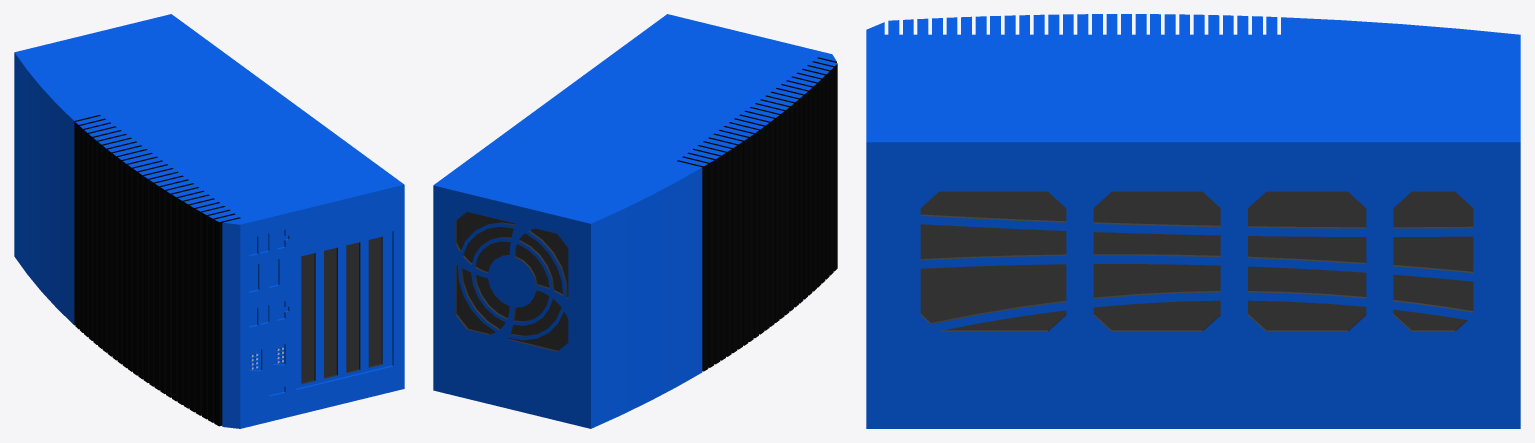
The model's file is Nuvo.fbx.
3 renders of one model, left to right at view 1: azimuth 30°, elevation 25°; view 2: azimuth 150°, elevation 25°; view 3: azimuth 270°, elevation 25°, orthographic. The views are drawn at different scales.
Parts seen in each view (by area): view 1: Imported1; view 2: Imported1; view 3: Imported1.
Boxes of the visible parts, bbox=[...] form: Imported1: bbox=[14, 14, 404, 428]; Imported1: bbox=[433, 14, 837, 428]; Imported1: bbox=[866, 14, 1520, 428].
Size of the model in its own units: 6.57 by 6.85 by 14.17.
